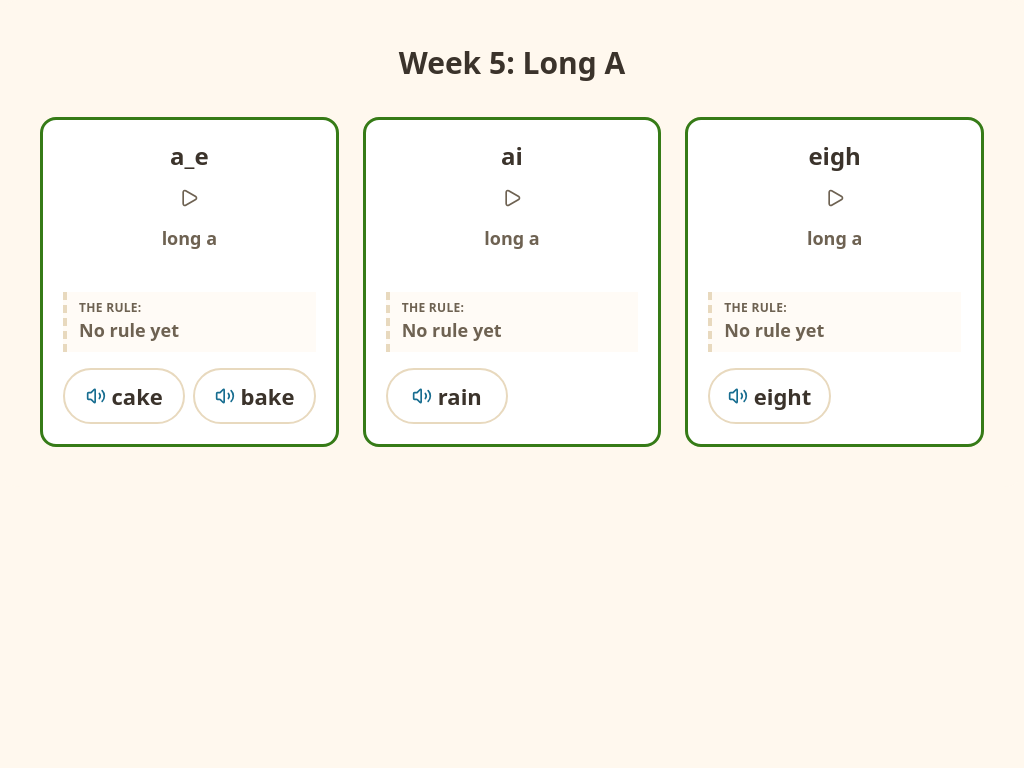
Test: PatternChartDisplay song videos (issue #401) › shows attached videos in the modal and closes it
Click the button named "Song videos for pattern ai". click: point(512, 198)
box: [490, 176, 534, 220]
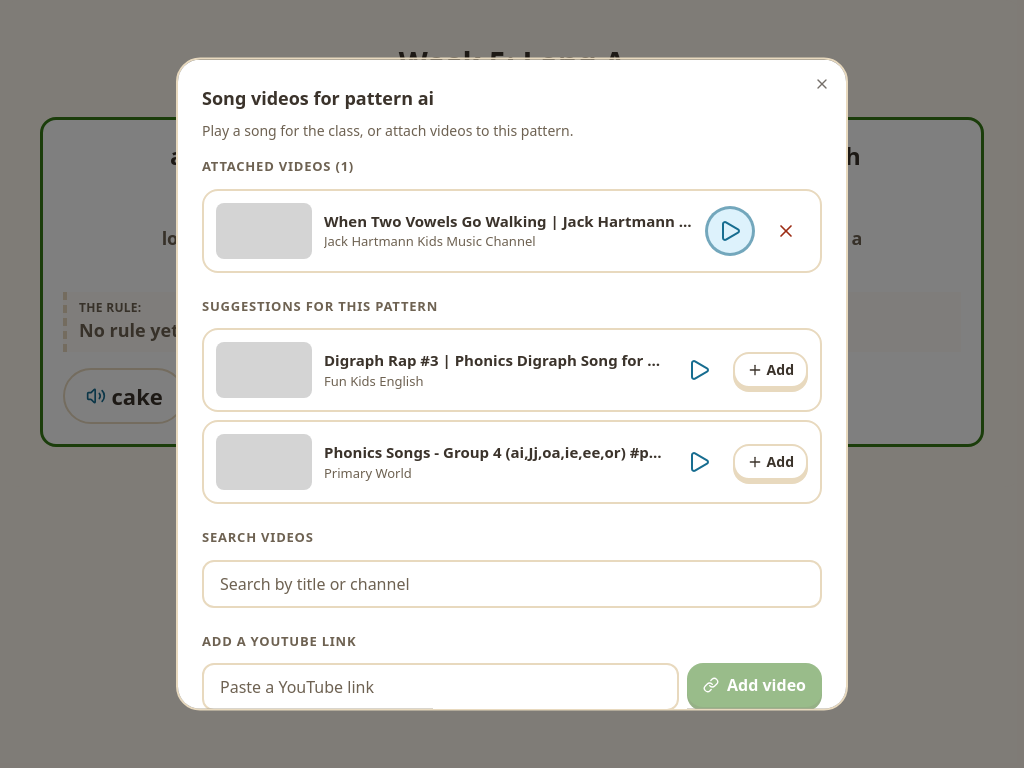
Result: the heading "Attached videos (1)" is shown at [202, 157, 354, 175]
Result: the text "When Two Vowels Go Walking | Jack Hartmann Vowel Teams Song | Vowels Song" is shown at [324, 209, 696, 232]
Press Escape
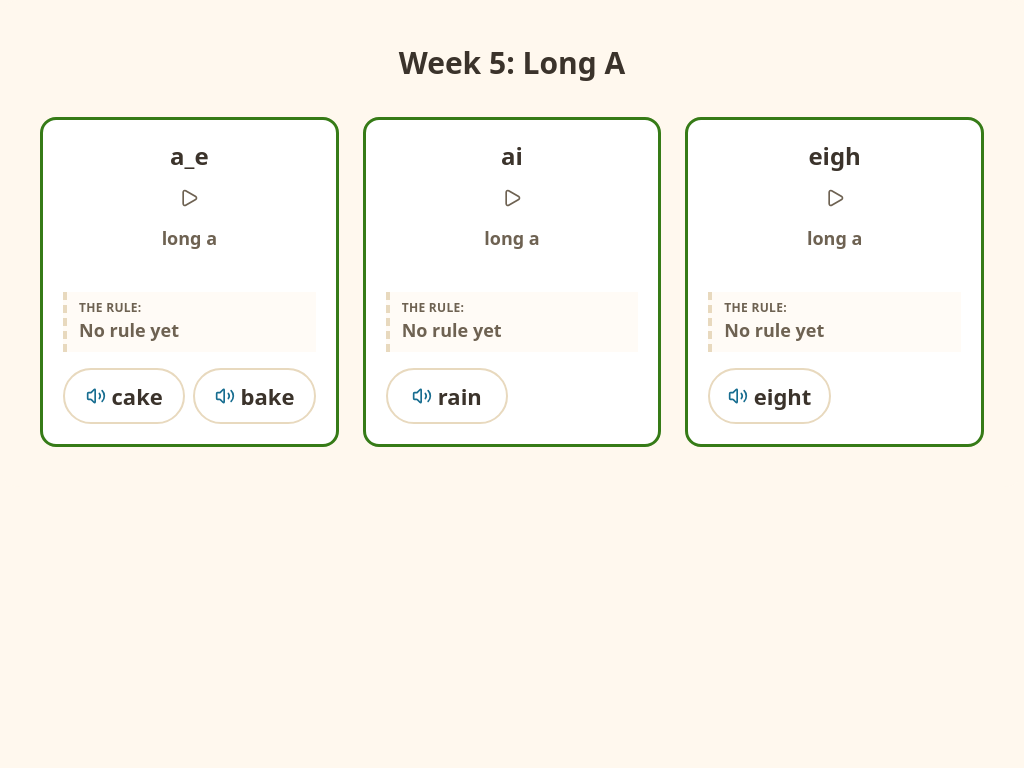
Result: the heading "Song videos for pattern ai" is gone
